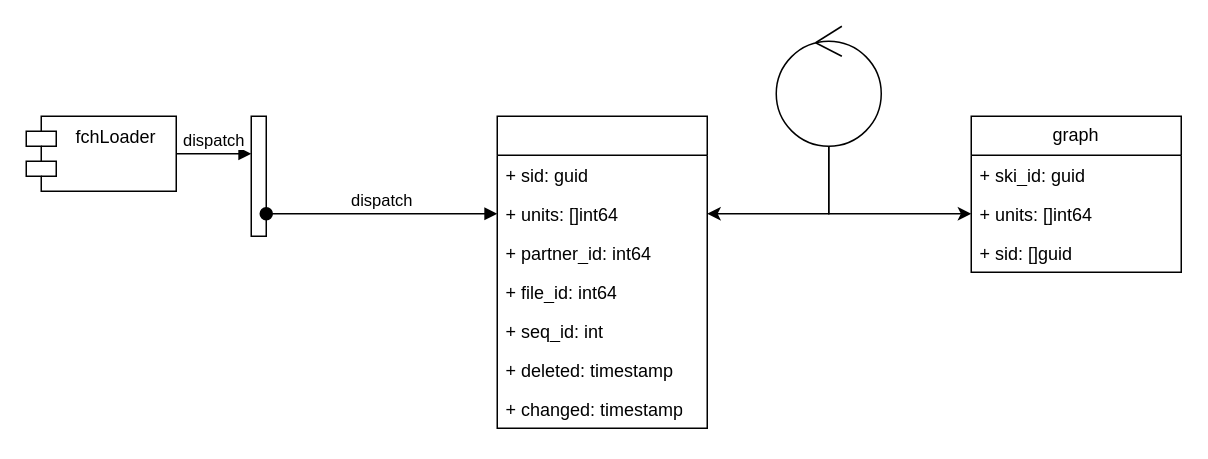
Image size: 1208x459. Some labels were removed from this diagram. The shapes that lost their labels are listed below. From the top down, each one's box as (x1, y1, x2, y2) in pixels, then its label:
(775, 25, 881, 146): Control Object
(496, 115, 707, 428): search
